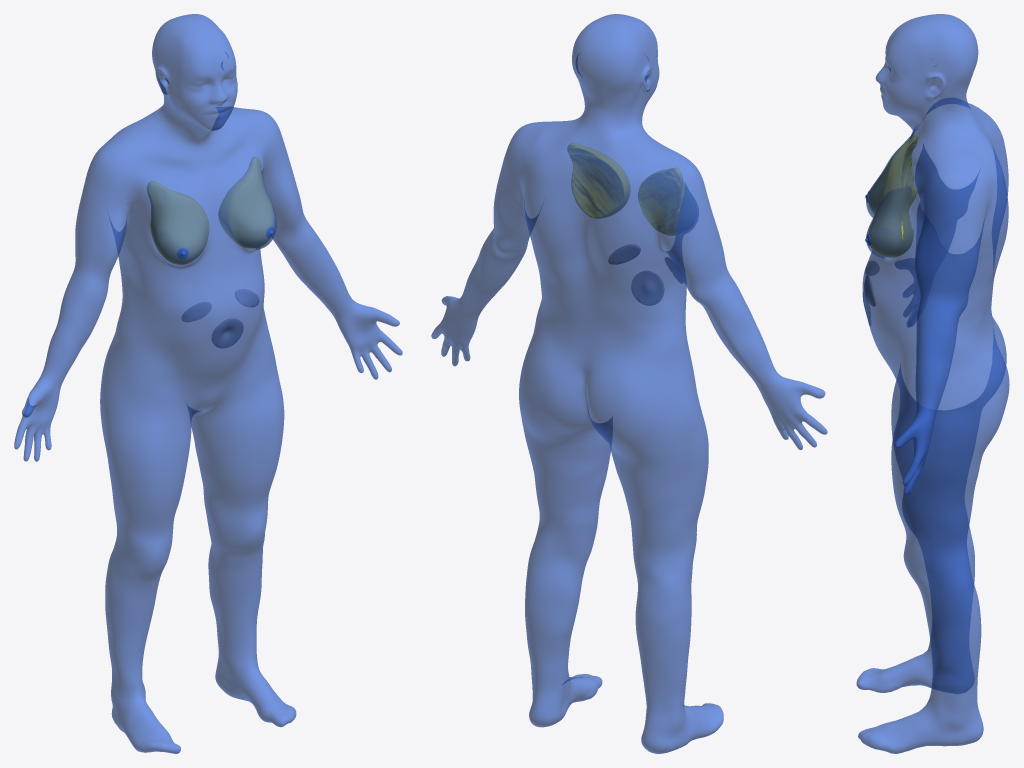
Rendered from female-skin.glb.
3 views of the same model, side by side, from view 1: azimuth 30°, elevation 25°; view 2: azimuth 150°, elevation 25°; view 3: azimuth 270°, elevation 25° (orthographic).
Visible parts, largest first — view 1: VH_F_skin, VH_F_fat_R, VH_F_fat_L, VH_F_subcutaneous_abdominal_adipose_tissue_umbilicus_area; view 2: VH_F_skin, VH_F_fat_L, VH_F_fat_R, VH_F_subcutaneous_abdominal_adipose_tissue_umbilicus_area; view 3: VH_F_skin, VH_F_fat_L, VH_F_fat_R.
Boxes of the visible parts, box(x1,y1,x2,y2) form: VH_F_skin: box(14, 14, 402, 753); VH_F_fat_R: box(147, 181, 208, 264); VH_F_fat_L: box(218, 157, 274, 247); VH_F_subcutaneous_abdominal_adipose_tissue_umbilicus_area: box(212, 319, 243, 348); VH_F_skin: box(431, 14, 827, 753); VH_F_fat_L: box(567, 143, 630, 218); VH_F_fat_R: box(638, 168, 684, 235); VH_F_subcutaneous_abdominal_adipose_tissue_umbilicus_area: box(631, 271, 663, 305); VH_F_skin: box(856, 14, 1009, 753); VH_F_fat_L: box(868, 185, 917, 257); VH_F_fat_R: box(868, 135, 917, 214).
Size of the model in its own units: 0.9617 by 1.66 by 0.3271.
